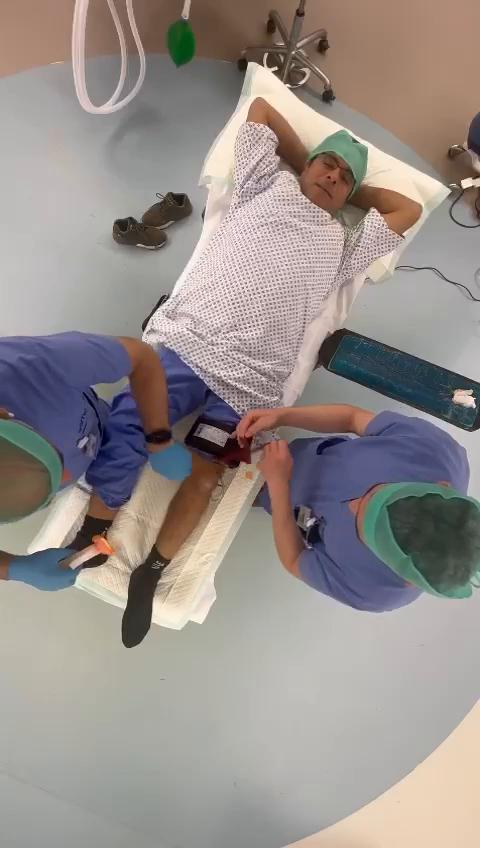bed: (15, 58, 440, 632)
patient: (82, 98, 422, 648)
prepstick: (60, 535, 114, 570)
tourniquet: (184, 416, 252, 467)
